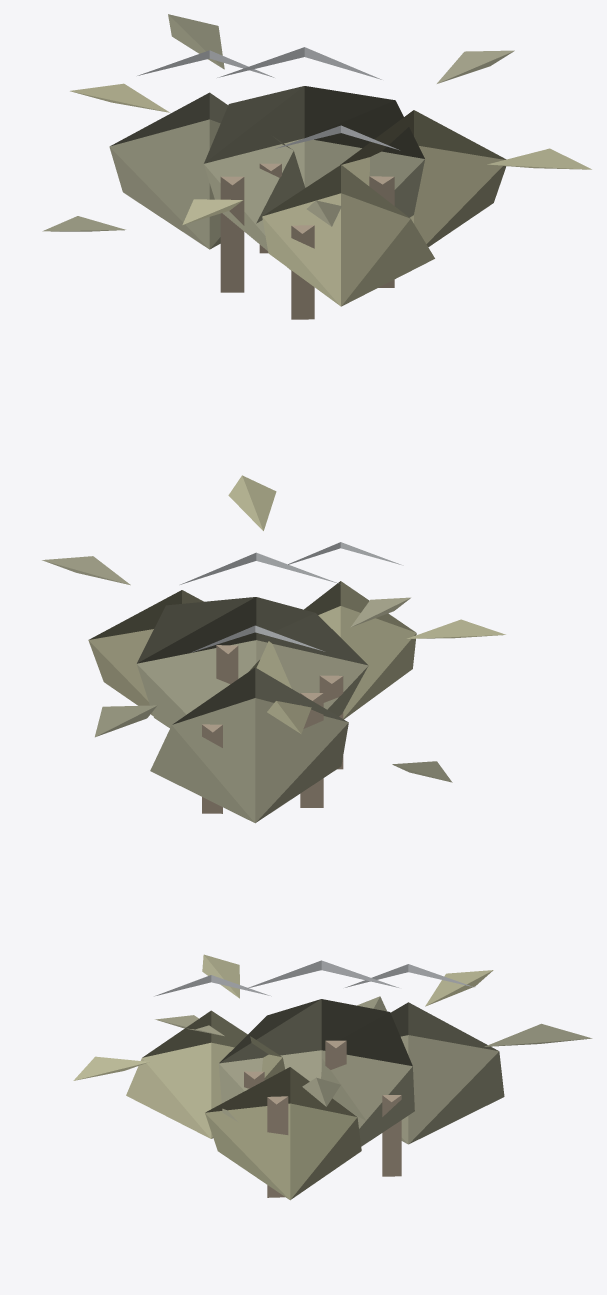
File: guan.aili__winter.glb
The picture shows the model from 3 angles, top to bottom: view 1: azimuth 30°, elevation 25°; view 2: azimuth 150°, elevation 25°; view 3: azimuth 270°, elevation 25°; orthographic projection. The views are drawn at different scales.
Parts seen in each view (by area): view 1: guan.aili__winter; view 2: guan.aili__winter; view 3: guan.aili__winter.
Boxes of the visible parts, left/top/right/bottom form: guan.aili__winter: left=42, top=14, right=591, bottom=319; guan.aili__winter: left=42, top=475, right=505, bottom=823; guan.aili__winter: left=73, top=954, right=592, bottom=1200.
Bounding box in the file's own units: 2.5 × 1.07 × 2.58.
